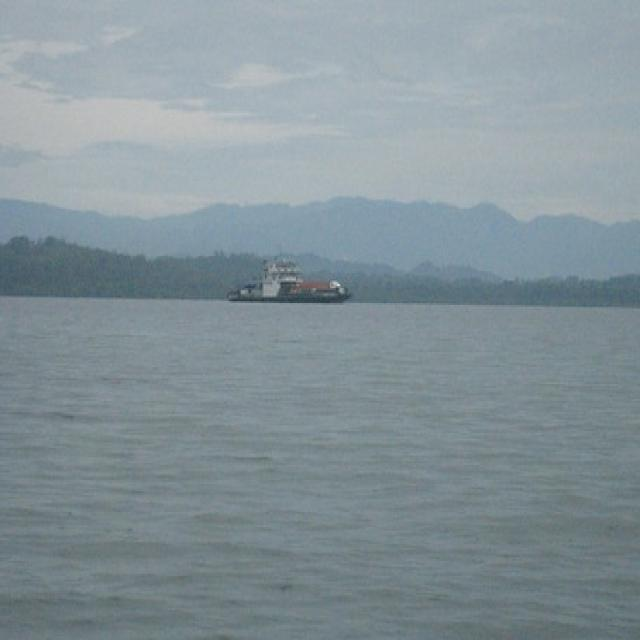fishing boat: (235, 252, 348, 306)
